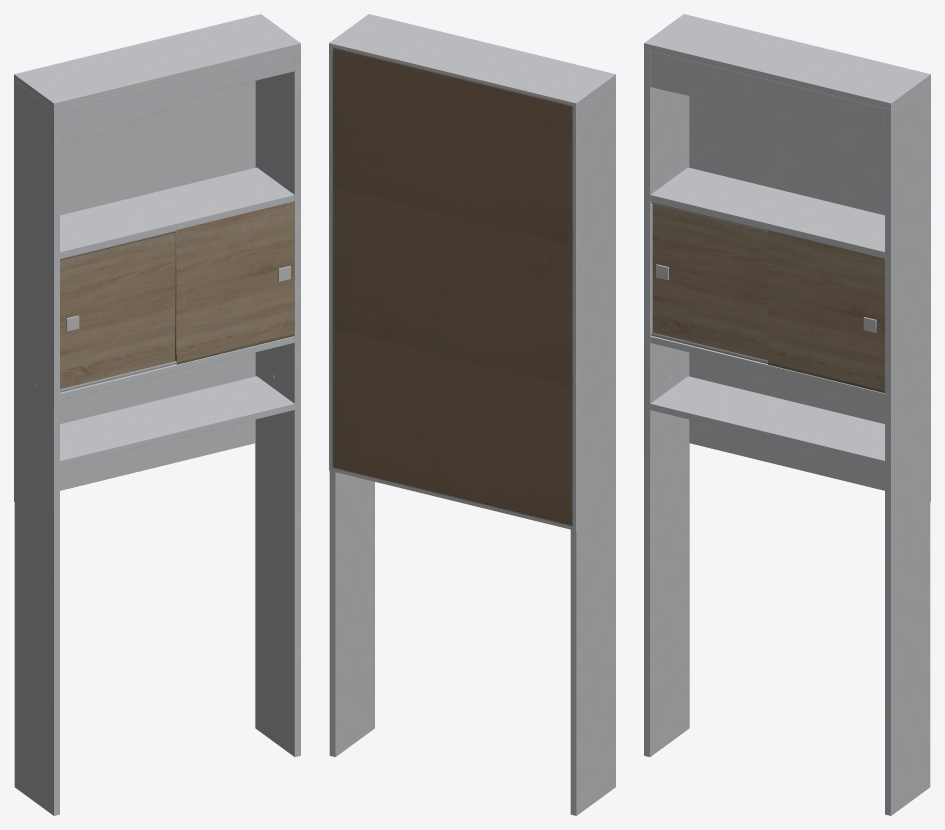
The model's file is abo-B07S5FQRDZ.glb.
3 renders of one model, left to right at view 1: azimuth 30°, elevation 25°; view 2: azimuth 150°, elevation 25°; view 3: azimuth 330°, elevation 25°, orthographic.
Size of the model in its own units: 0.643 by 1.77 by 0.192.
Materials: 1 (1 with a texture image).
